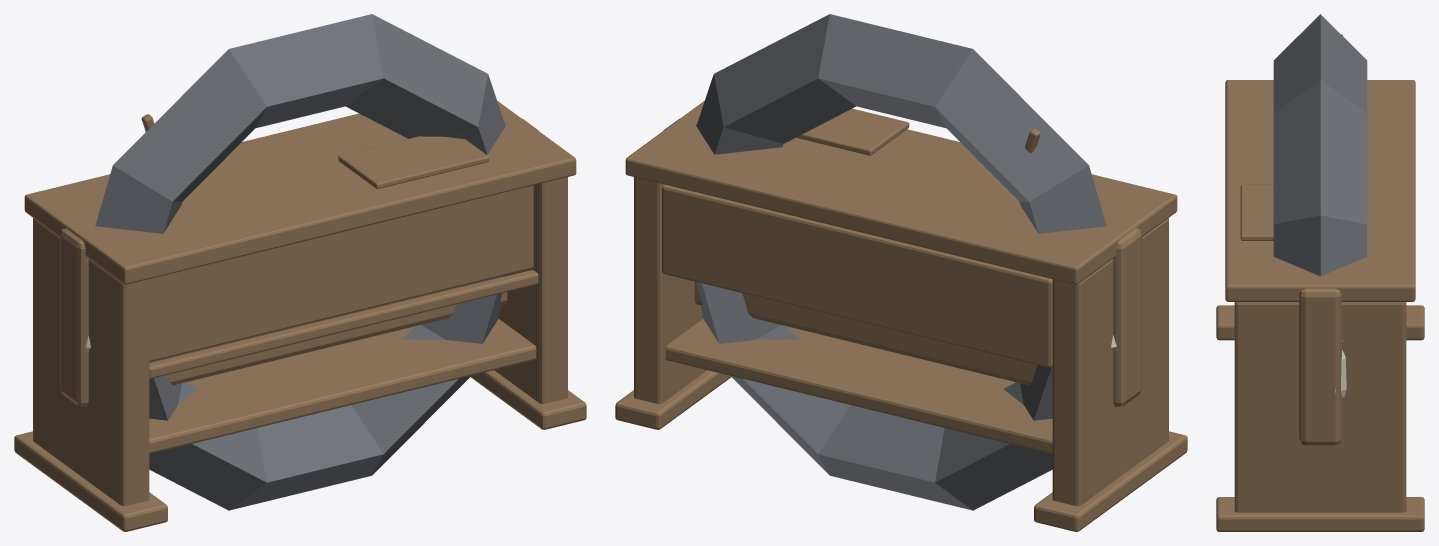
Rendered from physic_bench.glb.
The picture shows the model from 3 angles, left to right: view 1: azimuth 30°, elevation 25°; view 2: azimuth 150°, elevation 25°; view 3: azimuth 270°, elevation 25°; orthographic projection. The views are drawn at different scales.
Visible parts, largest first — view 1: world; view 2: world; view 3: world.
Part boxes in pixels (x1=…): world: x1=14, y1=14, x2=586, y2=531; world: x1=615, y1=14, x2=1187, y2=531; world: x1=1216, y1=14, x2=1424, y2=531.
Bounding box in the file's own units: 2 × 1.9 × 0.8292.
Materials: 1 (1 with a texture image).
